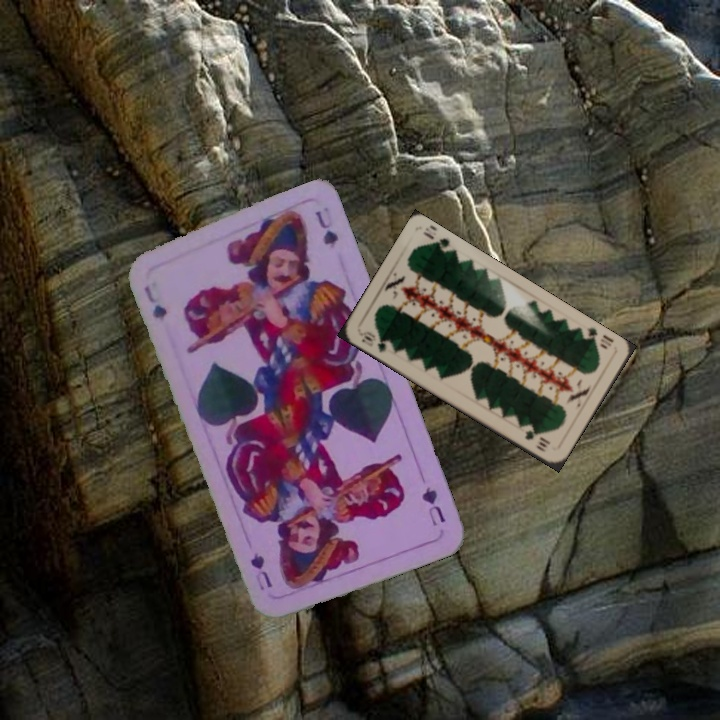G10: (577, 323, 616, 352), (356, 327, 389, 355)
GU: (417, 482, 448, 529), (140, 281, 170, 324)
